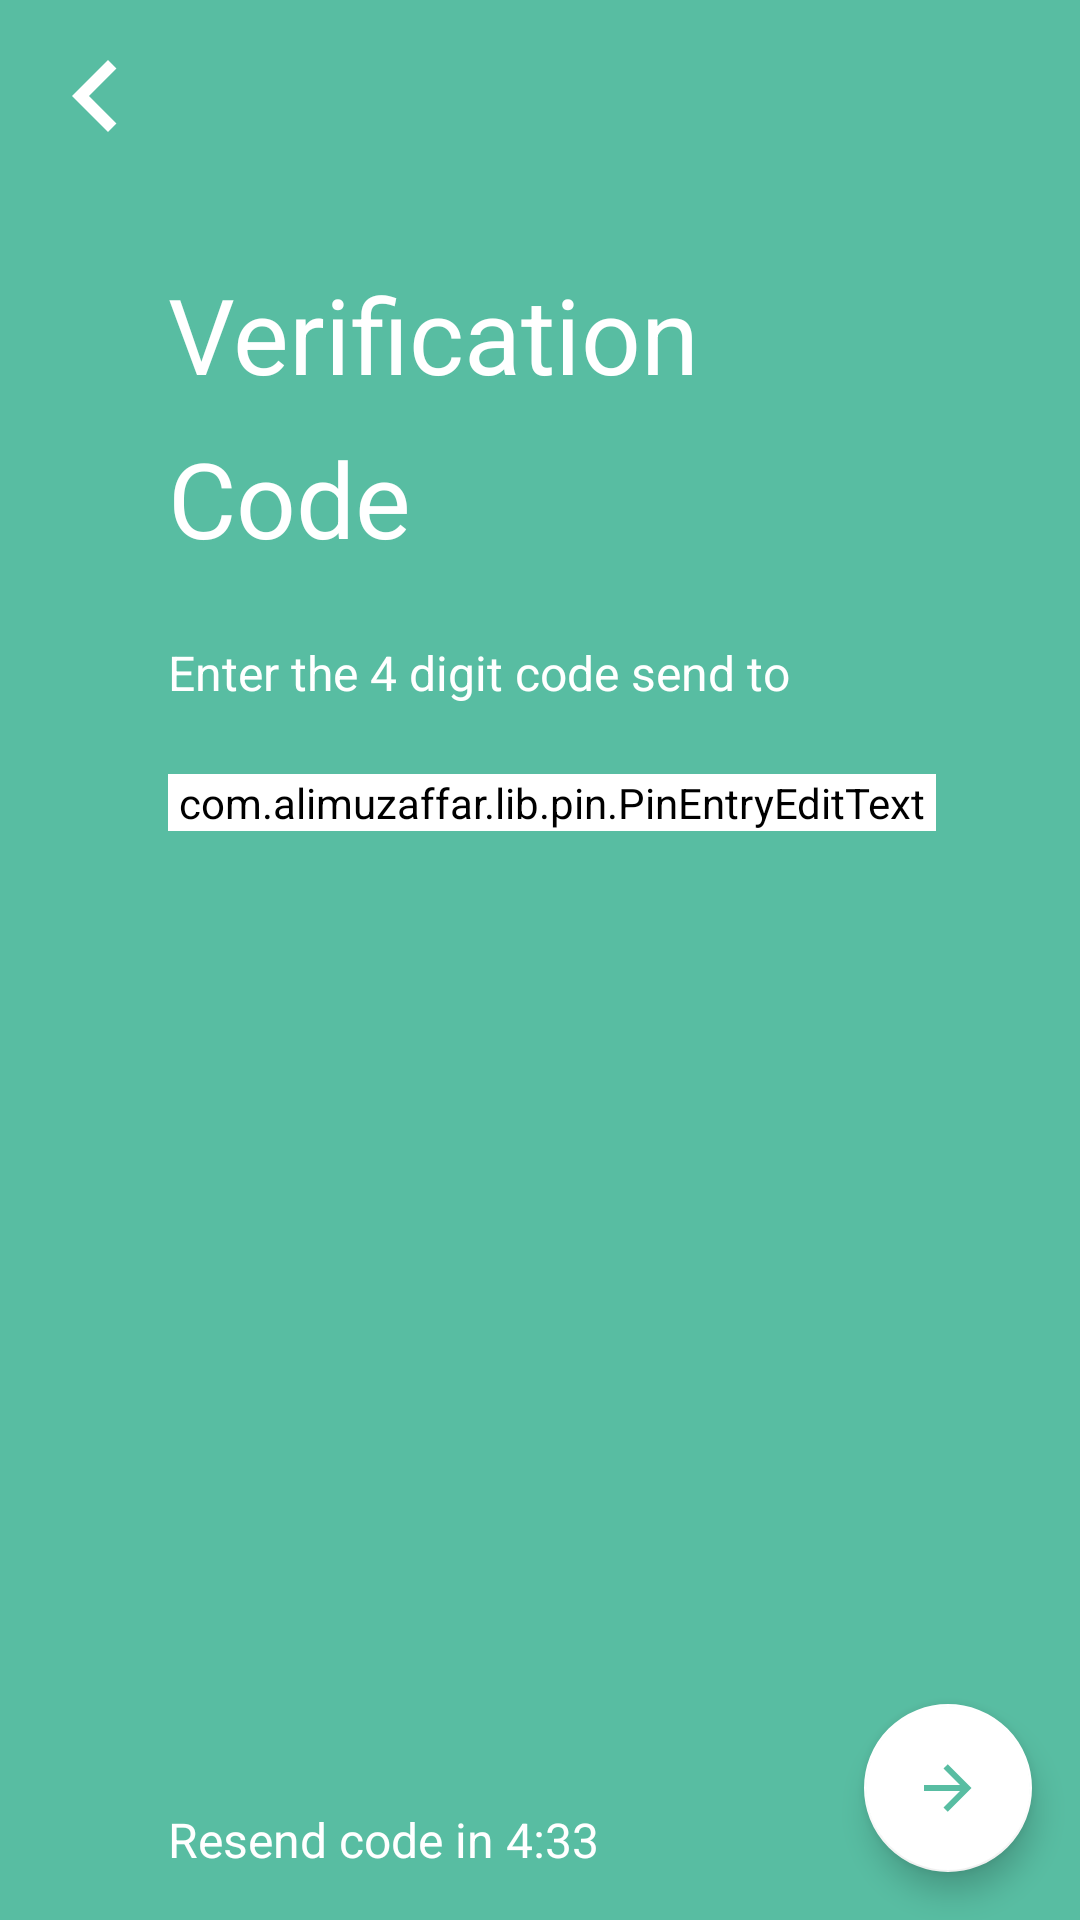

Icons on this 1080px×1920px Android screen, each with its box as (x1=x1, y1=y1, x2=x2, y2=y2):
arrow left: (x1=72, y1=60, x2=117, y2=132)
arrow right: (x1=864, y1=1704, x2=1032, y2=1872)
